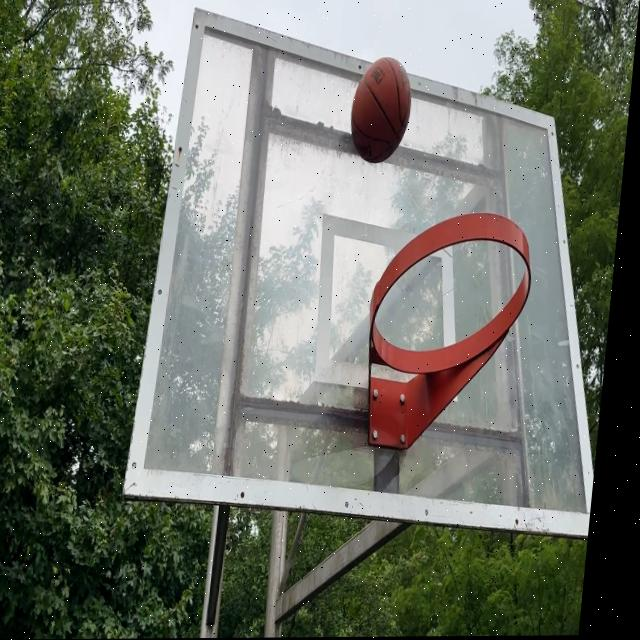rebound_hit: (345, 55, 416, 169)
